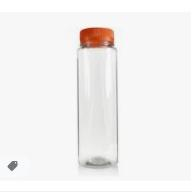plastic_bottle: (75, 25, 124, 169)
